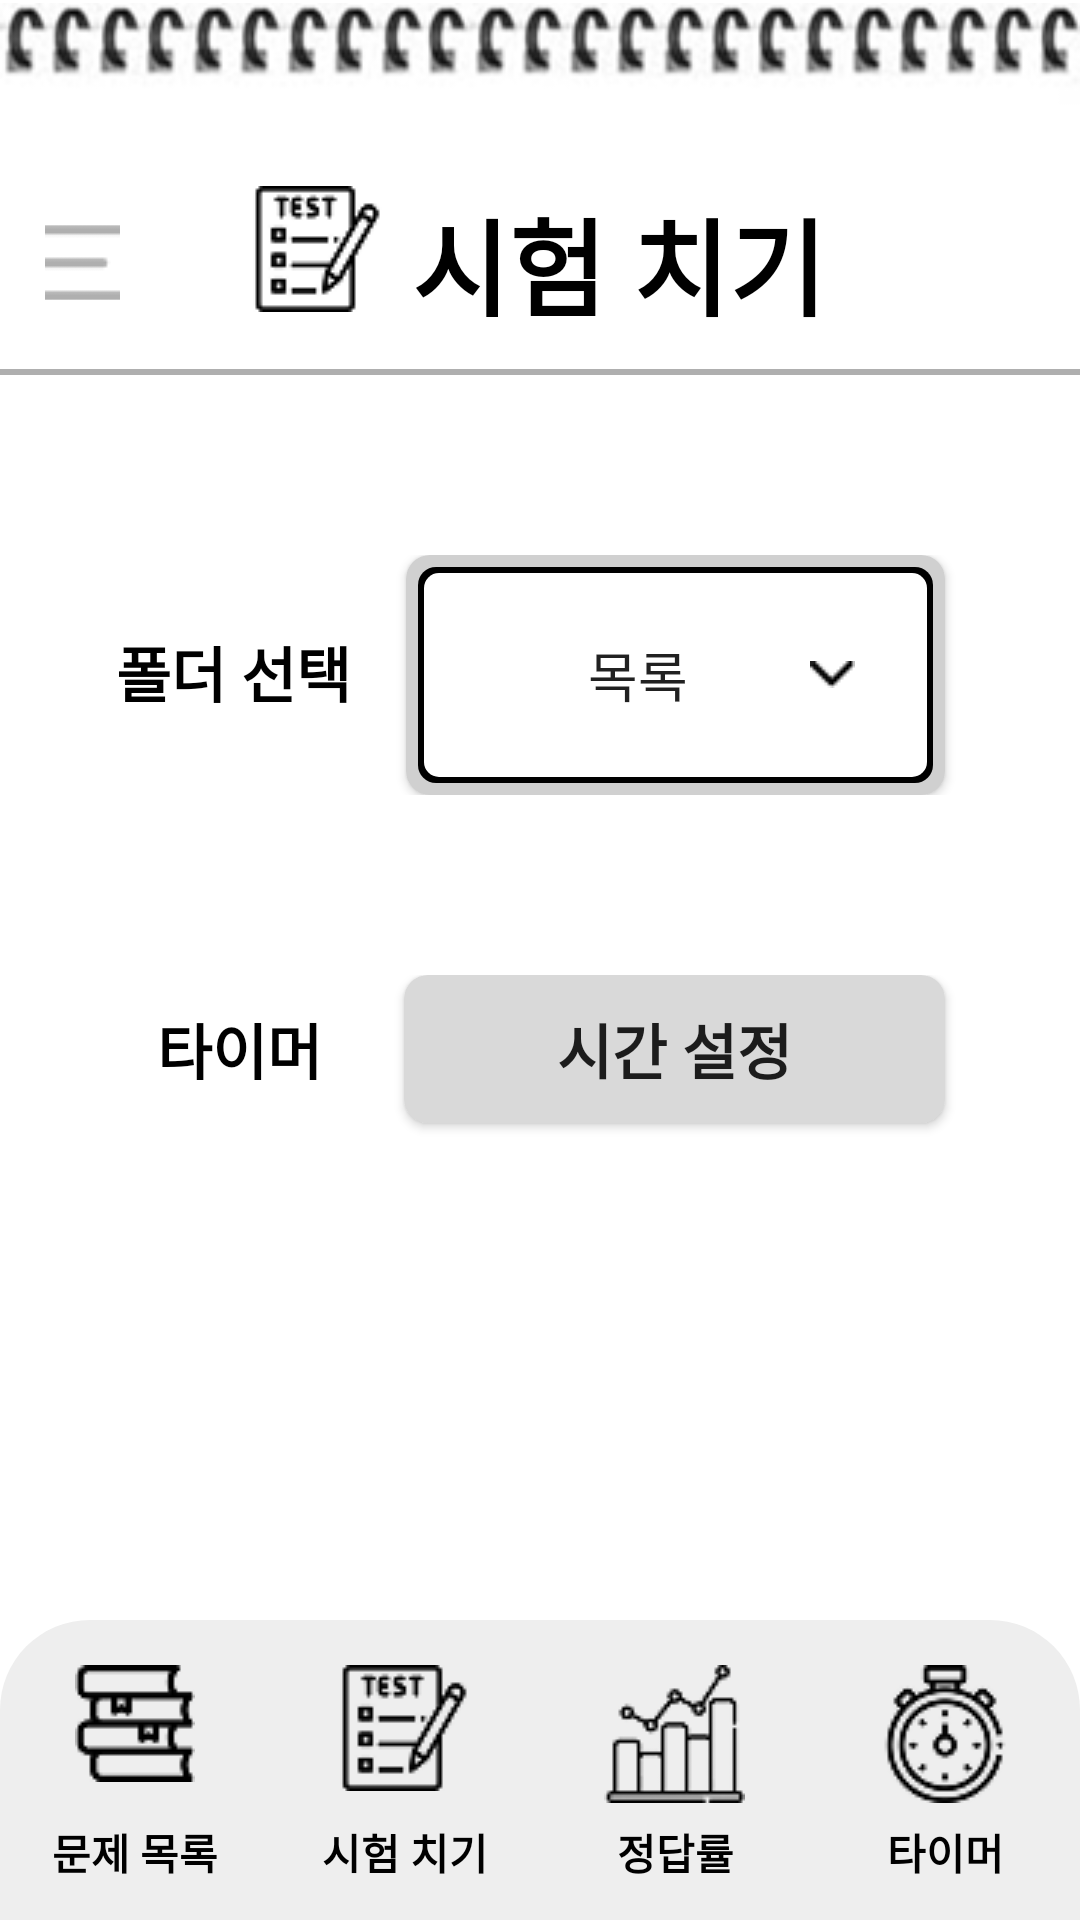

Where to tap for icons on this 1080*1920 app screen, as (x,y):
hamburger: (82,262)
